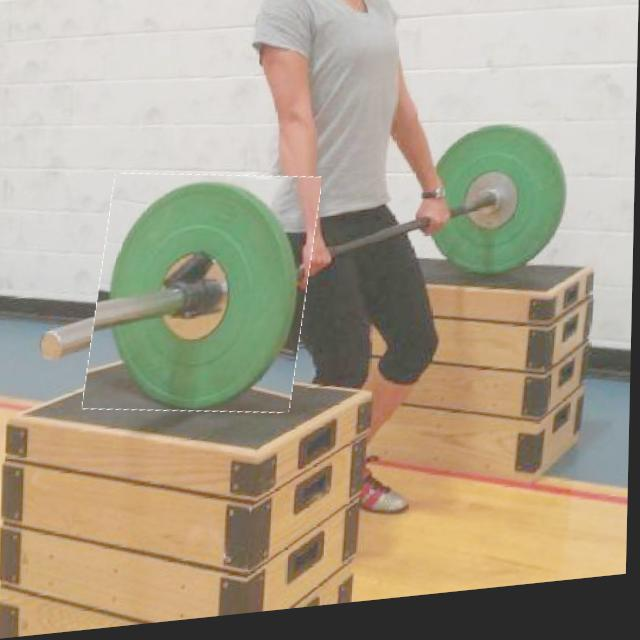barbell: (91, 167, 317, 430)
